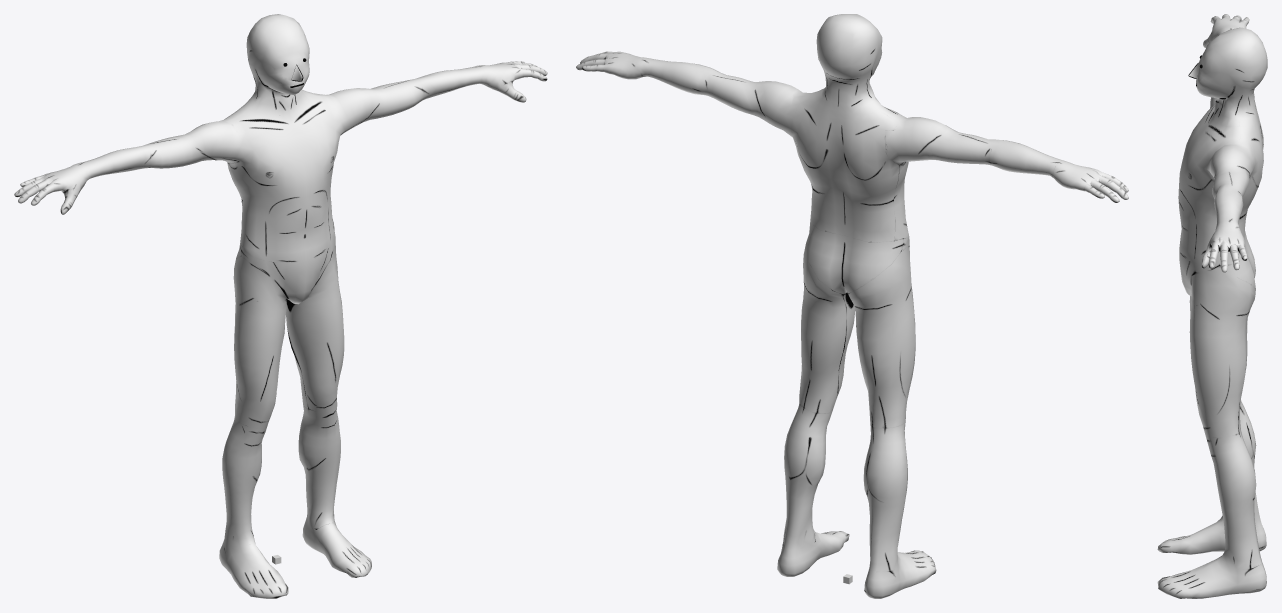
File: buffguy.fbx
The picture shows the model from 3 angles, left to right: view 1: azimuth 30°, elevation 25°; view 2: azimuth 150°, elevation 25°; view 3: azimuth 270°, elevation 25°; orthographic projection. The views are drawn at different scales.
Parts seen in each view (by area): view 1: npc; view 2: npc; view 3: npc.
Boxes of the visible parts, x1,y1,x2,y2 form: npc: (14,14,547,598); npc: (576,14,1128,598); npc: (1157,14,1267,598).
Bounding box in the file's own units: 18311 × 18052 × 3354.
2 materials, 1 textured.
